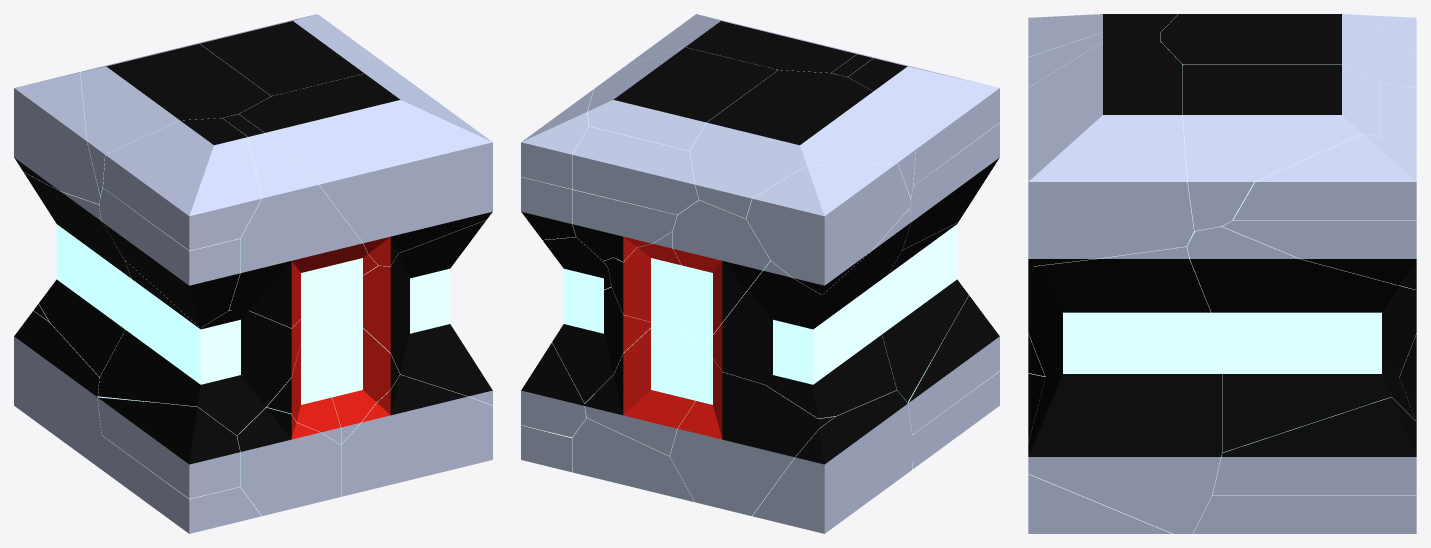
File: DO NOT USE.fbx
The picture shows the model from 3 angles, left to right: view 1: azimuth 30°, elevation 25°; view 2: azimuth 150°, elevation 25°; view 3: azimuth 270°, elevation 25°; orthographic projection. The views are drawn at different scales.
Parts seen in each view (by area): view 1: Chest_cell.027, Chest_cell.026, Chest_cell.007, Chest_cell.029, Chest_cell.023, Chest_cell.018, Chest_cell.016, Chest_cell.014, Chest_cell.028, Chest_cell.006, Chest_cell.013, Chest_cell.022 (+6 smaller); view 2: Chest_cell.014, Chest_cell.018, Chest_cell.008, Chest_cell.001, Chest_cell.013, Chest_cell.015, Chest_cell.019, Chest_cell.029, Chest_cell.026, Chest_cell.011, Chest_cell.003, Chest_cell.027 (+12 smaller); view 3: Chest_cell.023, Chest_cell.027, Chest_cell.015, Chest_cell.017, Chest_cell.004, Chest_cell.021, Chest_cell.018, Chest_cell.012, Chest_cell, Chest_cell.002, Chest_cell.016, Chest_cell.029 (+4 smaller).
Boxes of the visible parts, box(x1,y1,x2,y2) form: Chest_cell.027: box(239, 73, 492, 265); Chest_cell.026: box(98, 260, 313, 435); Chest_cell.007: box(222, 114, 377, 327); Chest_cell.029: box(103, 118, 261, 250); Chest_cell.023: box(344, 220, 492, 405); Chest_cell.018: box(80, 44, 270, 196); Chest_cell.016: box(341, 374, 492, 496); Chest_cell.014: box(23, 172, 131, 376); Chest_cell.028: box(97, 397, 240, 498); Chest_cell.006: box(99, 188, 240, 327); Chest_cell.013: box(14, 311, 101, 469); Chest_cell.022: box(237, 407, 340, 515); Chest_cell.014: box(703, 208, 911, 418); Chest_cell.018: box(690, 70, 915, 218); Chest_cell.008: box(746, 163, 910, 294); Chest_cell.001: box(670, 356, 837, 515); Chest_cell.013: box(752, 390, 912, 533); Chest_cell.015: box(587, 47, 777, 151); Chest_cell.019: box(584, 275, 759, 455); Chest_cell.029: box(848, 58, 999, 185); Chest_cell.026: box(761, 222, 968, 402); Chest_cell.011: box(673, 200, 770, 346); Chest_cell.003: box(572, 126, 698, 214); Chest_cell.027: box(625, 14, 867, 72); Chest_cell.023: box(1028, 245, 1222, 533); Chest_cell.027: box(1028, 41, 1194, 266); Chest_cell.015: box(1182, 64, 1378, 231); Chest_cell.017: box(1187, 226, 1398, 360); Chest_cell.004: box(1212, 397, 1416, 495); Chest_cell.021: box(1222, 286, 1416, 452); Chest_cell.018: box(1160, 14, 1416, 87); Chest_cell.012: box(1233, 134, 1416, 220); Chest_cell: box(1193, 495, 1416, 533); Chest_cell.002: box(1222, 220, 1416, 285); Chest_cell.016: box(1028, 373, 1172, 533); Chest_cell.029: box(1028, 14, 1178, 56).
Bounding box in the file's own units: 200 × 220 × 200.
